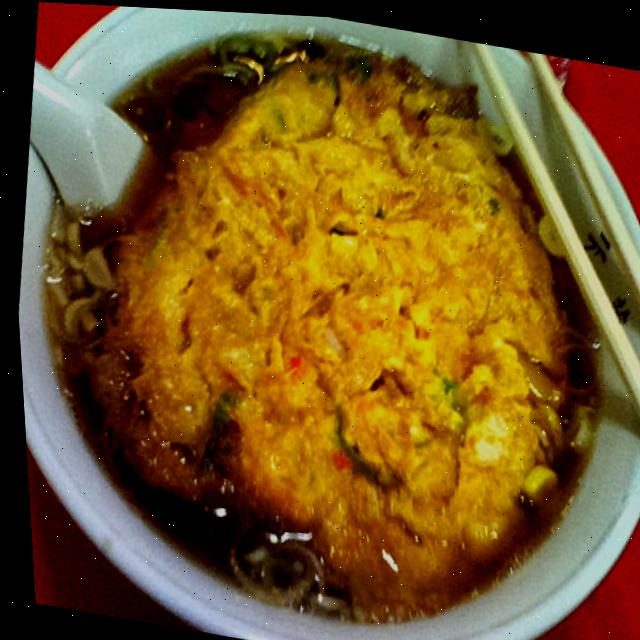面条主食: (70, 3, 619, 636)
